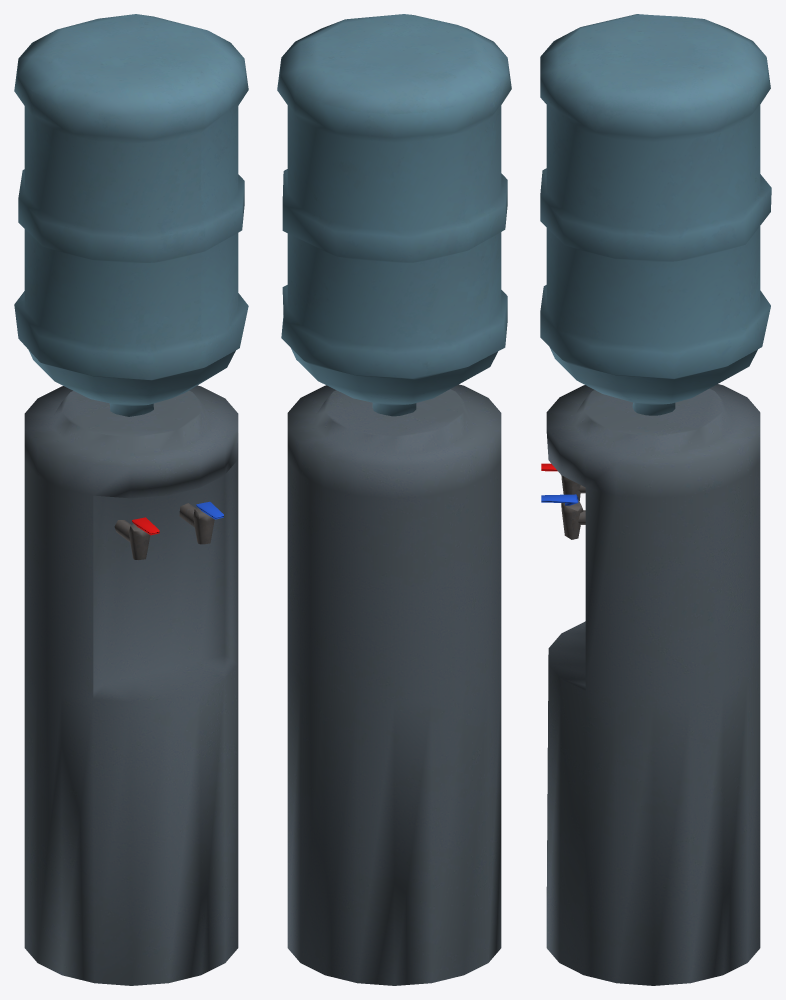
Rendered from WaterDispenser.glb.
The picture shows the model from 3 angles, left to right: view 1: azimuth 30°, elevation 25°; view 2: azimuth 150°, elevation 25°; view 3: azimuth 270°, elevation 25°; orthographic projection.
Visible parts, largest first — view 1: WaterDispenser; view 2: WaterDispenser; view 3: WaterDispenser.
Part boxes in pixels (x1,y1,x2,y2): WaterDispenser: (14, 14, 248, 985); WaterDispenser: (277, 14, 511, 985); WaterDispenser: (540, 14, 771, 985).
Size of the model in its own units: 0.5366 by 2.25 by 0.5303.
Materials: 5 (5 with a texture image).
